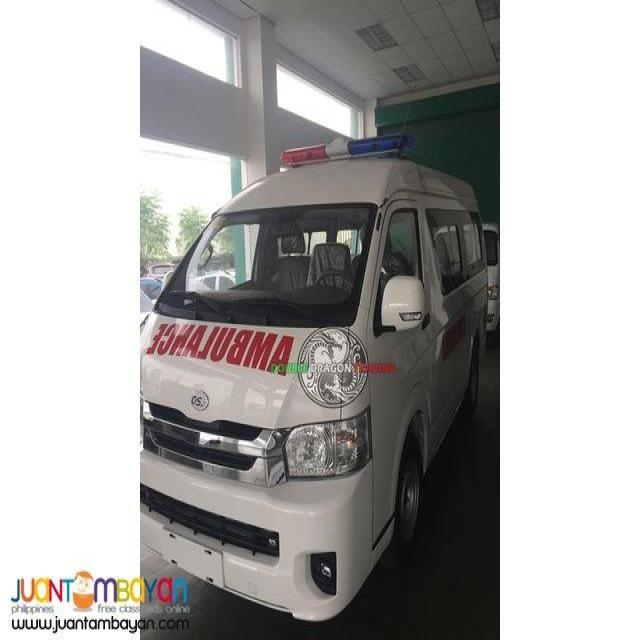emergency-vehicle: (142, 110, 498, 636)
